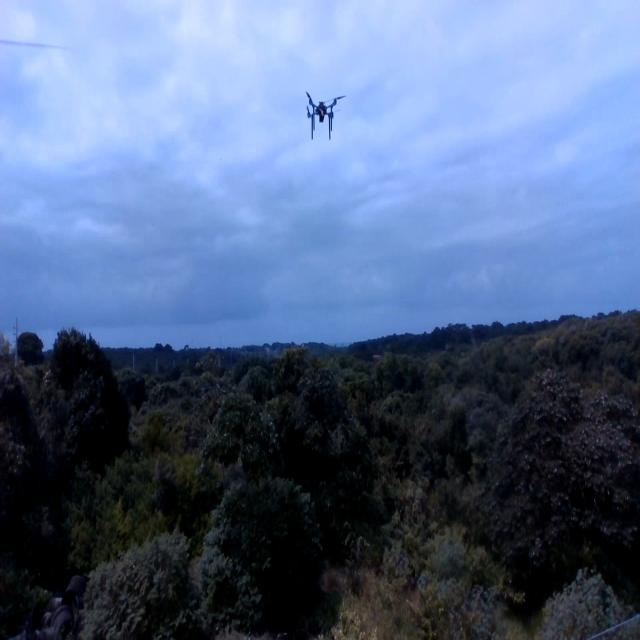-uav-: (300, 79, 351, 157)
